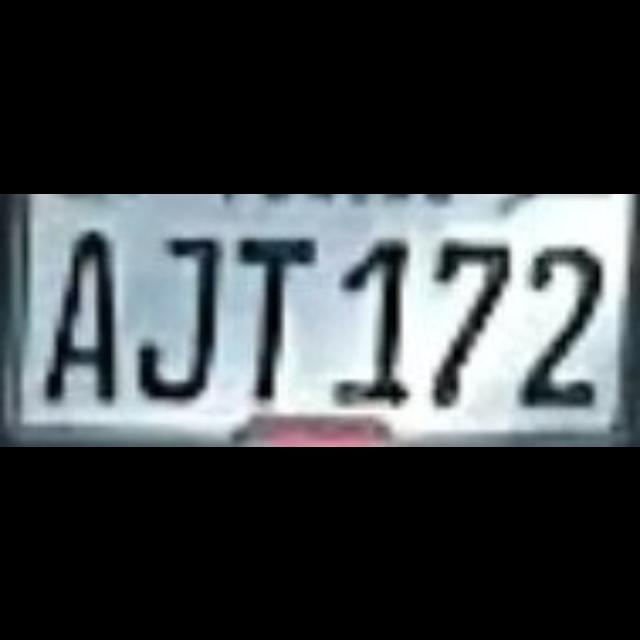1: (327, 224, 425, 420)
2: (518, 224, 616, 420)
7: (422, 224, 520, 420)
A: (37, 224, 135, 420)
J: (134, 224, 232, 420)
T: (229, 224, 327, 420)
